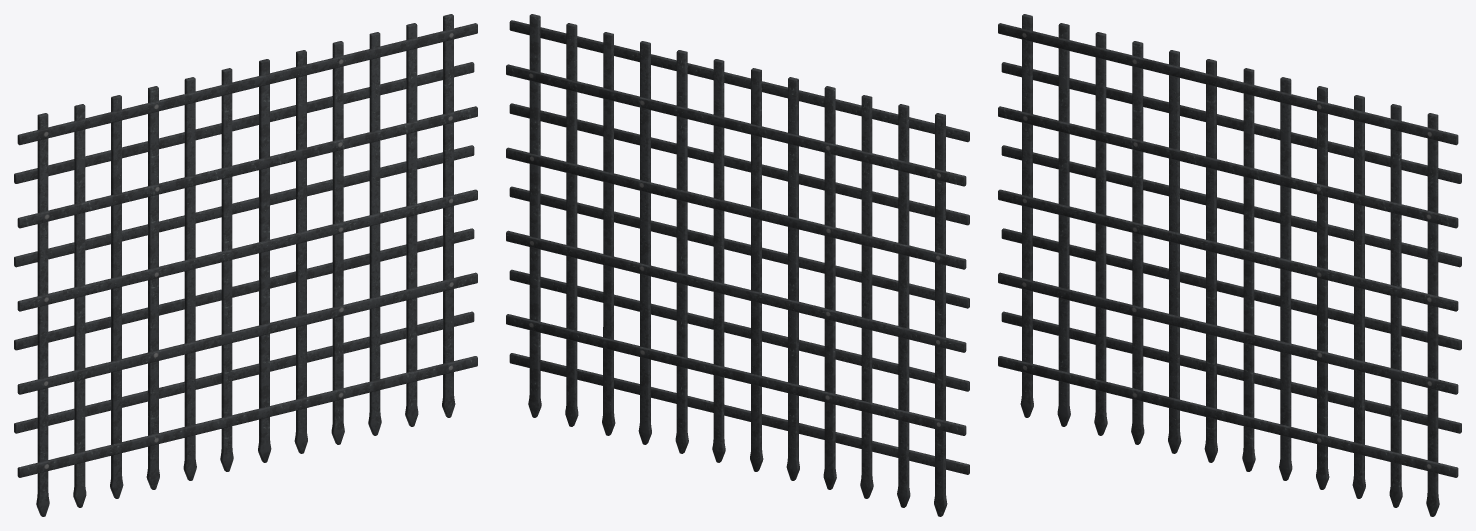
File: Bars2.fbx
3 views of the same model, side by side, from view 1: azimuth 30°, elevation 25°; view 2: azimuth 150°, elevation 25°; view 3: azimuth 330°, elevation 25° (orthographic).
Visible parts, largest first — view 1: Bars2; view 2: Bars2; view 3: Bars2.
Boxes of the visible parts, x1=… form: Bars2: x1=14, y1=14, x2=477, y2=516; Bars2: x1=506, y1=14, x2=969, y2=516; Bars2: x1=998, y1=14, x2=1461, y2=516.
Size of the model in its own units: 3.12 by 2.61 by 0.0677.
